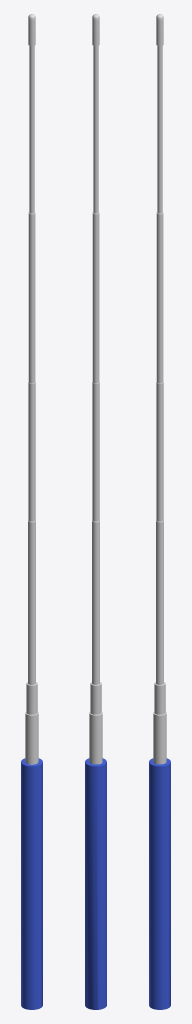
The model's file is Laser2.fbx.
The picture shows the model from 3 angles, left to right: view 1: azimuth 90°, elevation 25°; view 2: azimuth 150°, elevation 25°; view 3: azimuth 270°, elevation 25°; orthographic projection.
Parts seen in each view (by area): view 1: Cylinder; view 2: Cylinder; view 3: Cylinder.
Part boxes in pixels (x1,y1,x2,y2): Cylinder: [21, 14, 42, 1009]; Cylinder: [85, 14, 106, 1009]; Cylinder: [149, 14, 170, 1009].
Size of the model in its own units: 2 by 100 by 2.
